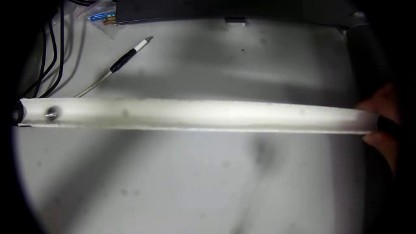gangzhu: (41, 102, 58, 121)
